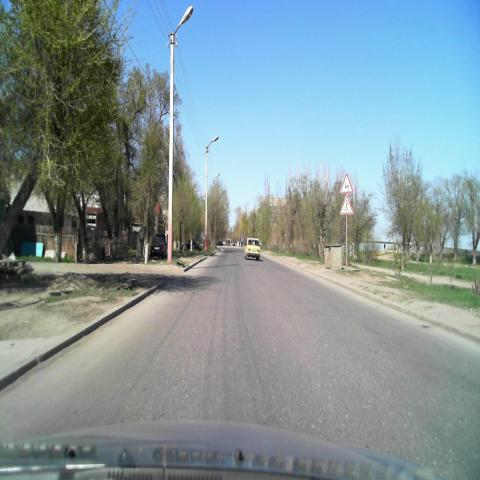1_12_2: (338, 172, 354, 194)
